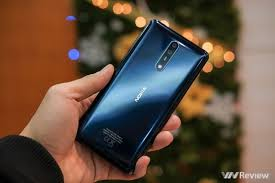nokia: (76, 18, 216, 172)
